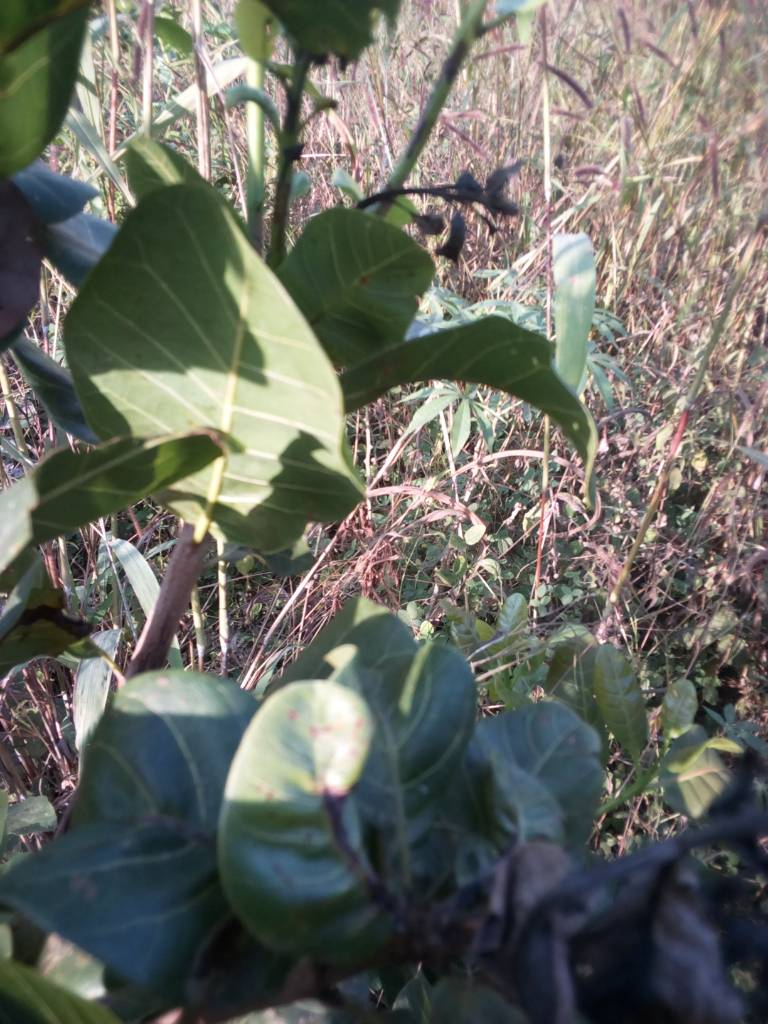Helopeltis anacardii: (236, 678, 396, 957)
